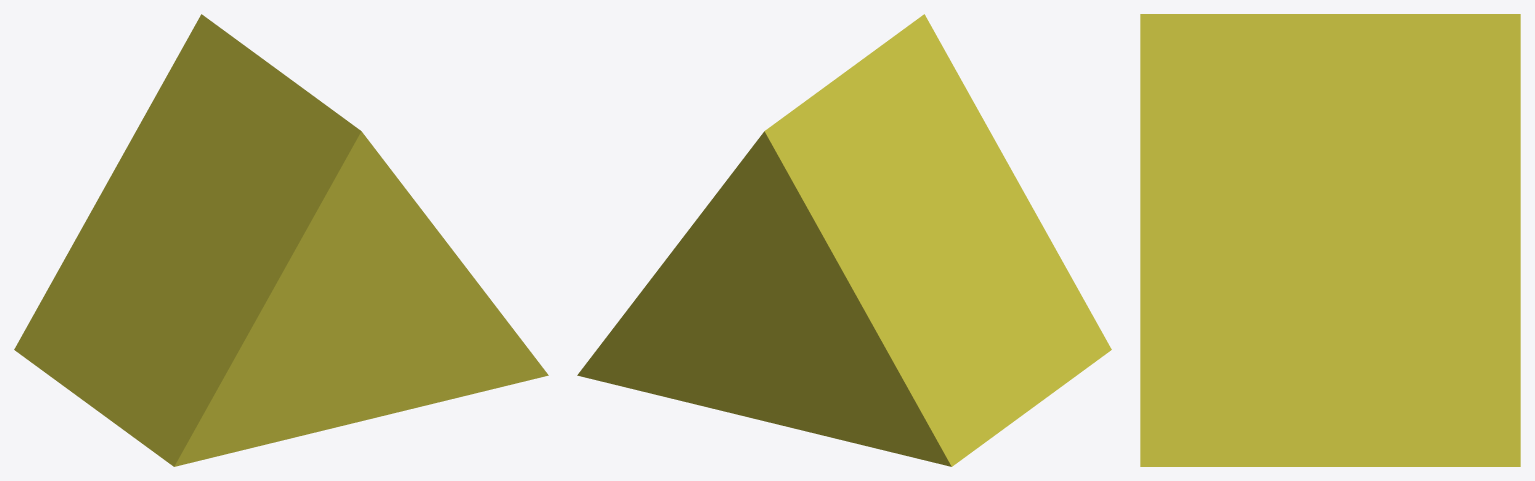
The model's file is KidsBoxD.FBX.
3 views of the same model, side by side, from view 1: azimuth 30°, elevation 25°; view 2: azimuth 150°, elevation 25°; view 3: azimuth 270°, elevation 25° (orthographic). The views are drawn at different scales.
Parts seen in each view (by area): view 1: KidsBoxD; view 2: KidsBoxD; view 3: KidsBoxD.
Boxes of the visible parts, box(x1,y1,x2,y2) form: KidsBoxD: box(14, 14, 548, 466); KidsBoxD: box(577, 14, 1111, 466); KidsBoxD: box(1140, 14, 1520, 466).
Size of the model in its own units: 13.52 by 10 by 10.
